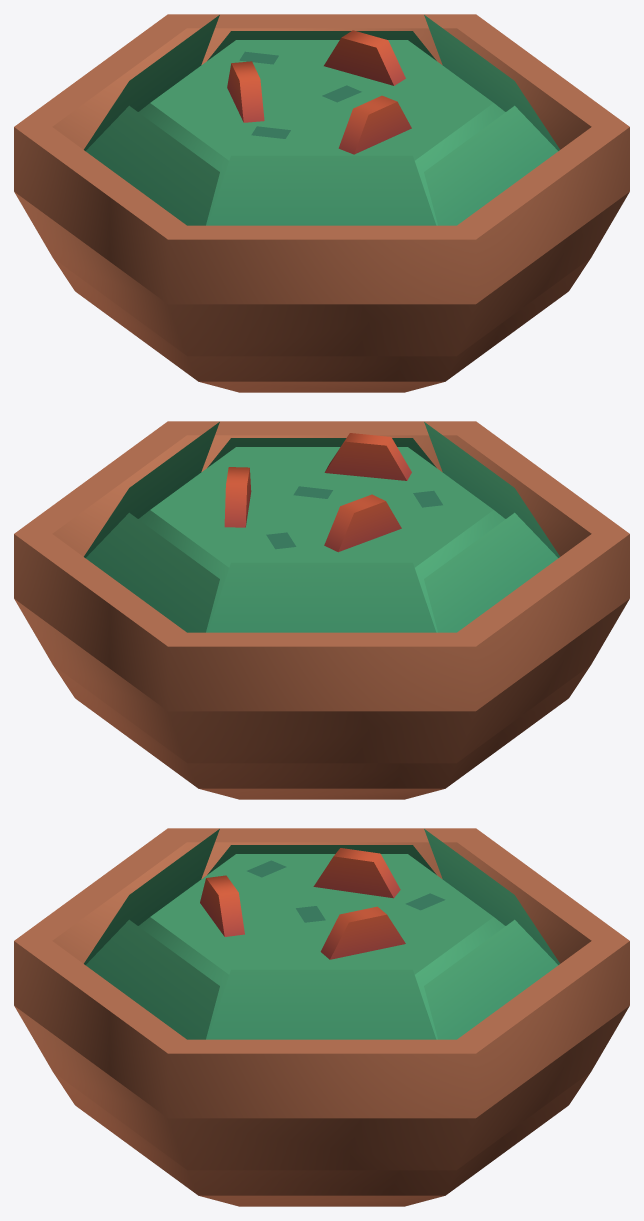
The model's file is salad.glb.
The picture shows the model from 3 angles, top to bottom: view 1: azimuth 30°, elevation 25°; view 2: azimuth 150°, elevation 25°; view 3: azimuth 270°, elevation 25°; orthographic projection.
Parts seen in each view (by area): view 1: salad; view 2: salad; view 3: salad.
Part boxes in pixels (x1,y1,x2,y2): salad: [14, 14, 629, 392]; salad: [14, 421, 629, 799]; salad: [14, 828, 629, 1206].
Bounding box in the file's own units: 0.5022 × 0.2734 × 0.5798.
